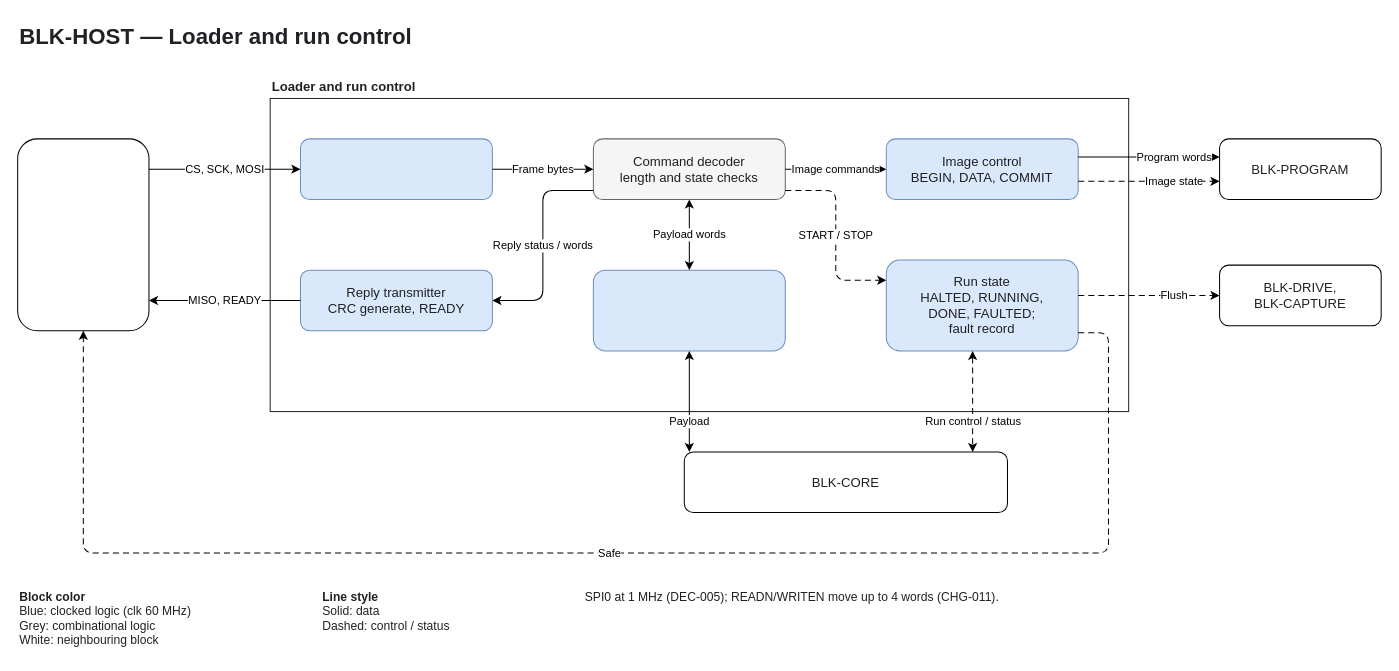
The diagram is 1399 pixels wide and 671 high, and some of its shapes have lost their labels. The shapes that lost their labels are listed below. From the top down, each one's centre as x and y in pixels, then its label:
point (395, 168): SPI frame receiver shift register, CRC check
point (83, 234): BLK-PADS
point (688, 310): Payload FIFOs 2 ingress + 2 egress, depth 8
